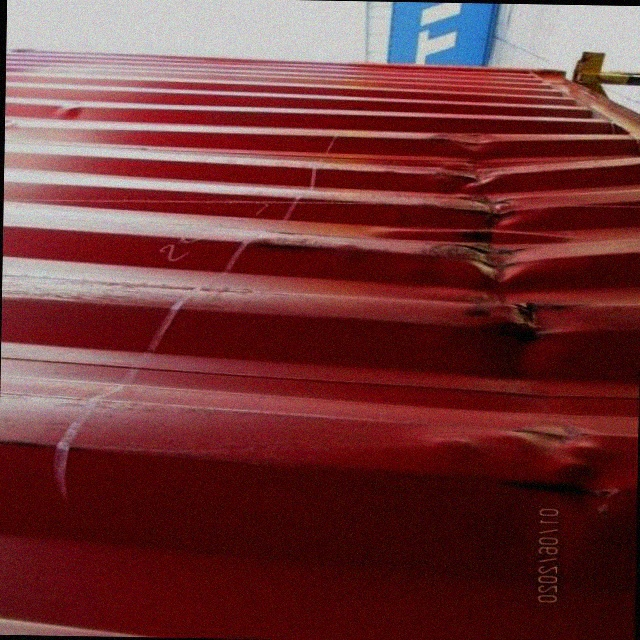Dent: (427, 129, 566, 380)
